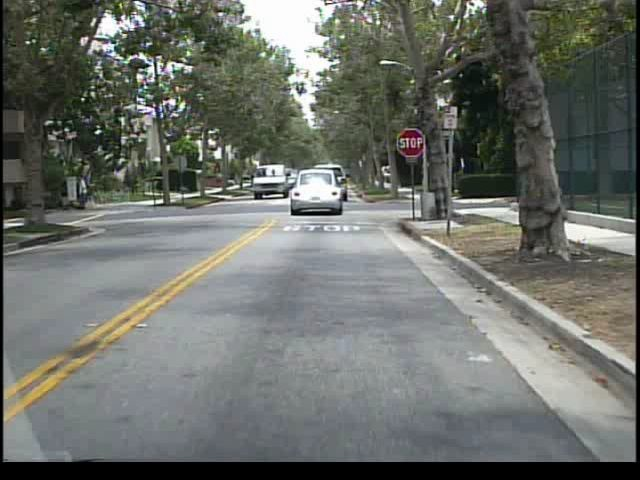person: (59, 168, 74, 213), (78, 167, 92, 212)
